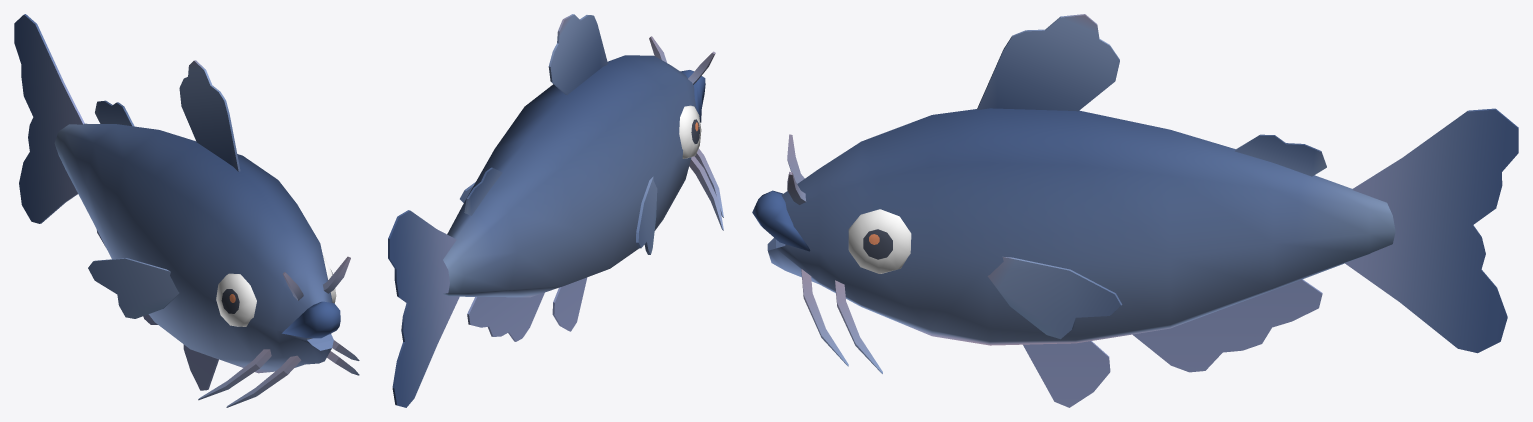
The picture shows the model from 3 angles, left to right: view 1: azimuth 30°, elevation 25°; view 2: azimuth 150°, elevation 25°; view 3: azimuth 270°, elevation 25°; orthographic projection. The views are drawn at different scales.
Parts seen in each view (by area): view 1: Fish_Catfish; view 2: Fish_Catfish; view 3: Fish_Catfish.
Part boxes in pixels (x1,y1,x2,y2): Fish_Catfish: (14, 14, 359, 407); Fish_Catfish: (388, 14, 723, 407); Fish_Catfish: (752, 14, 1518, 407).
Bounding box in the file's own units: 26.36 × 44.51 × 78.72.
